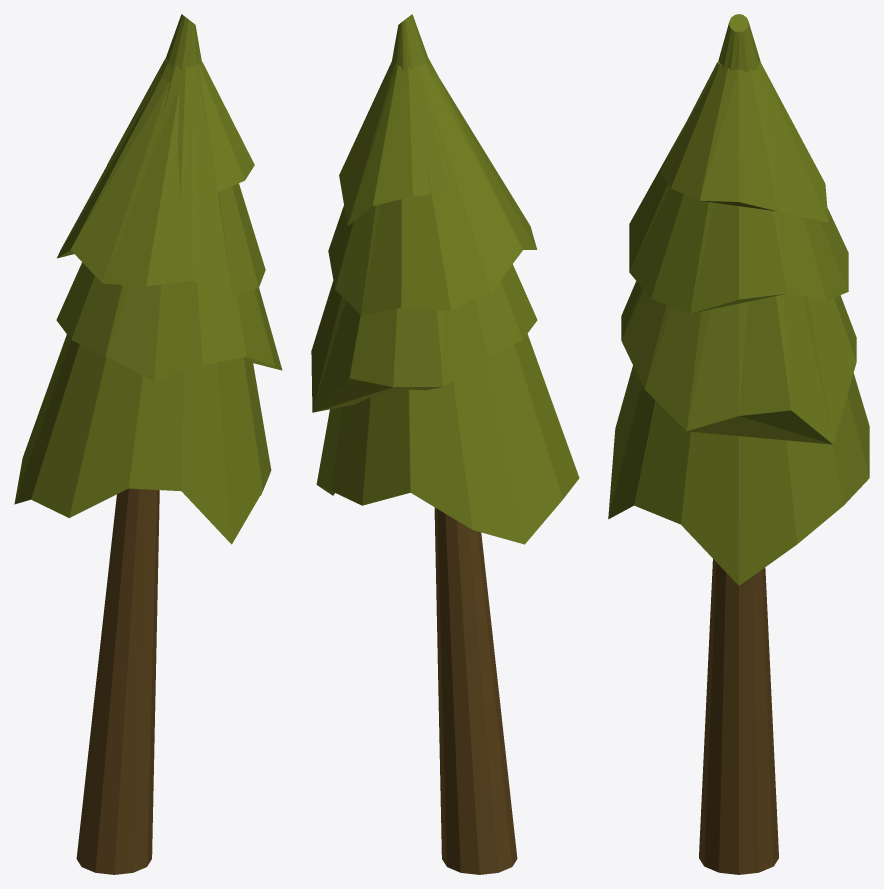
File: tree1.fbx
The picture shows the model from 3 angles, left to right: view 1: azimuth 30°, elevation 25°; view 2: azimuth 150°, elevation 25°; view 3: azimuth 270°, elevation 25°; orthographic projection. The views are drawn at different scales.
Visible parts, largest first — view 1: tree1; view 2: tree1; view 3: tree1.
Boxes of the visible parts, x1,y1,x2,y2 form: tree1: (14, 14, 282, 874); tree1: (311, 14, 579, 874); tree1: (608, 14, 869, 874).
Bounding box in the file's own units: 0.0222 × 0.0765 × 0.0206.
